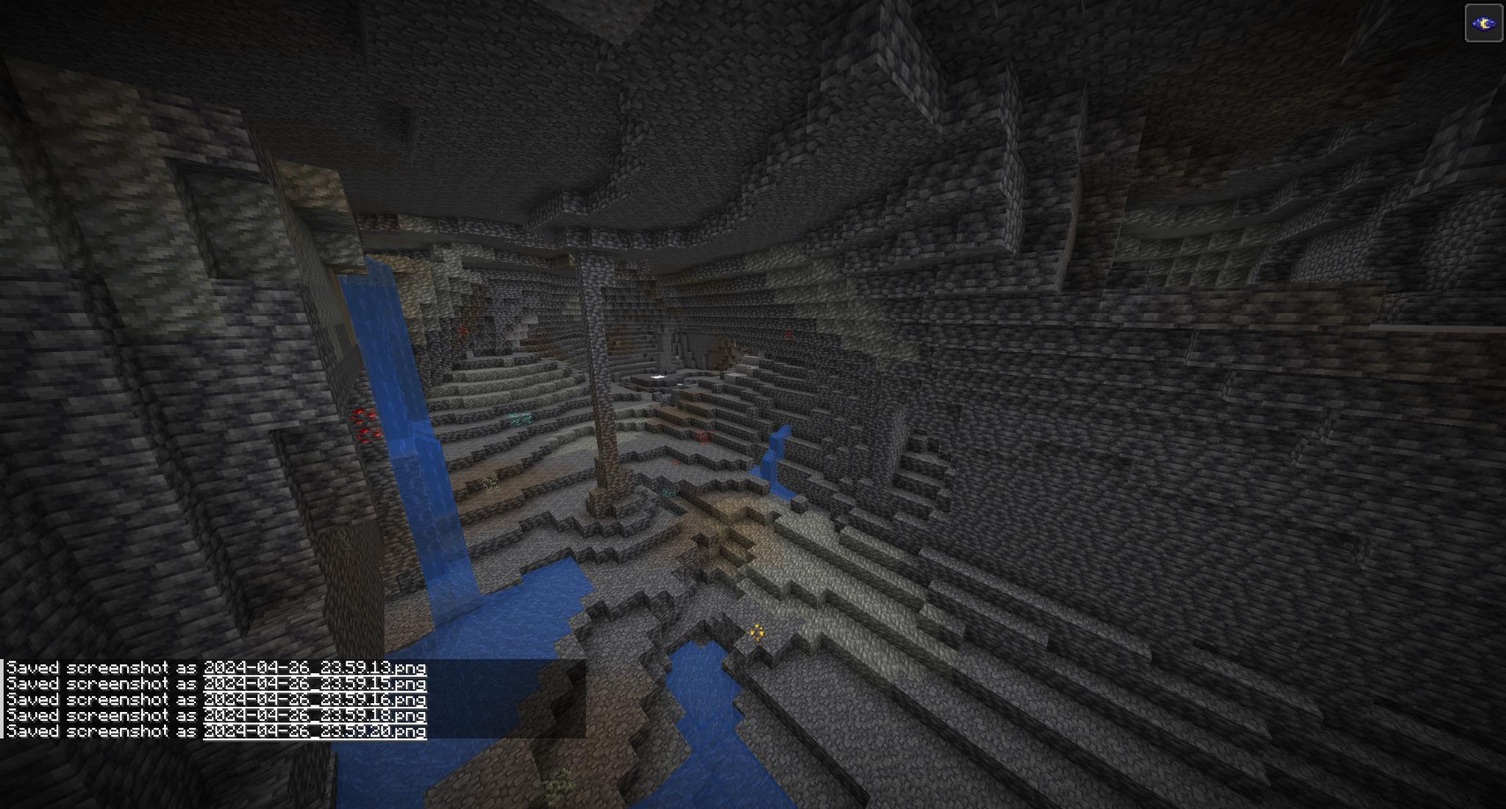diamond ore: (505, 410, 535, 428), (659, 484, 677, 500)
gold ore: (745, 621, 771, 646)
redstone ore: (347, 404, 382, 446), (697, 425, 718, 447), (781, 323, 799, 344)
